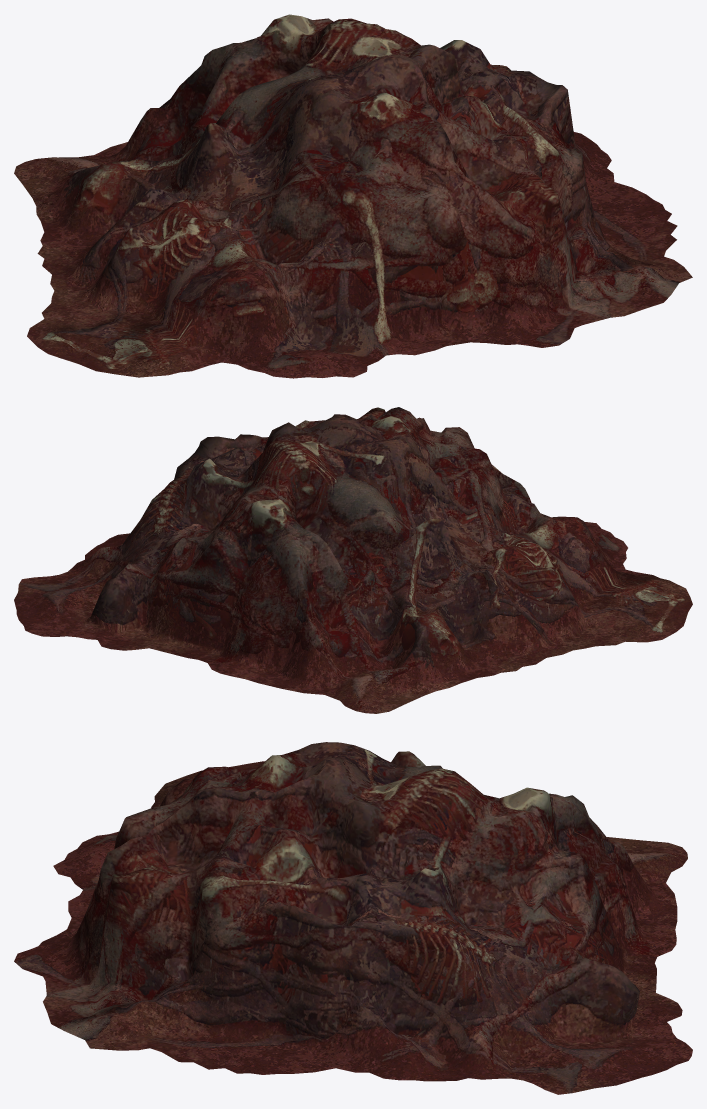
File: corpse_pile_large_01.dae
3 renders of one model, top to bottom at view 1: azimuth 30°, elevation 25°; view 2: azimuth 150°, elevation 25°; view 3: azimuth 270°, elevation 25°, orthographic. The views are drawn at different scales.
Visible parts, largest first — view 1: Game; view 2: Game; view 3: Game.
Part boxes in pixels (x1,y1,x2,y2): Game: (14,14,692,378); Game: (14,407,692,713); Game: (14,742,692,1094).
Bounding box in the file's own units: 4.78 × 1.29 × 4.11.
